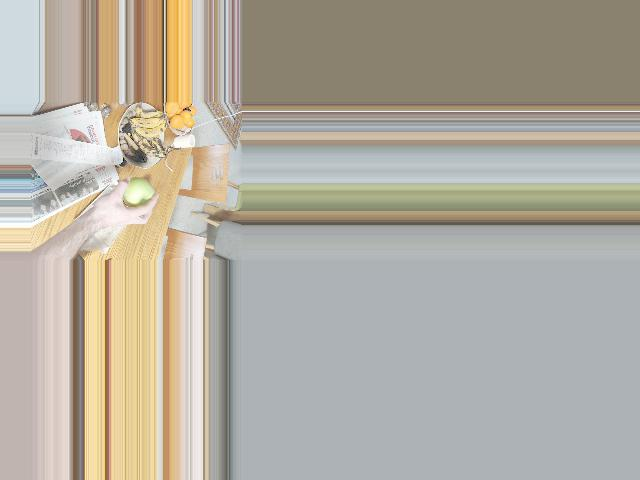apple: (117, 176, 159, 210)
